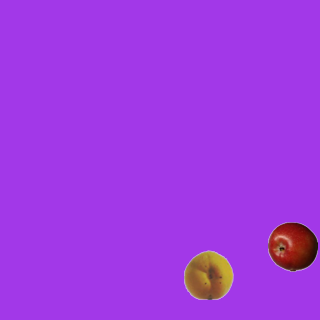Apple Braeburn: (267, 221, 317, 271)
Peach 2: (183, 249, 233, 299)
